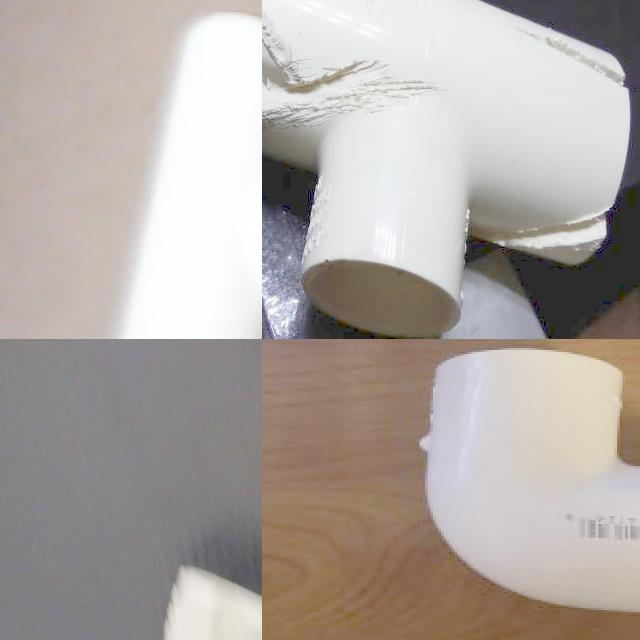Defective: (262, 0, 381, 126), (507, 22, 632, 109), (471, 193, 611, 268), (262, 77, 443, 126)
L Joint: (420, 349, 640, 615), (12, 515, 261, 640)
T Joint: (262, 0, 628, 339), (111, 12, 262, 339)
